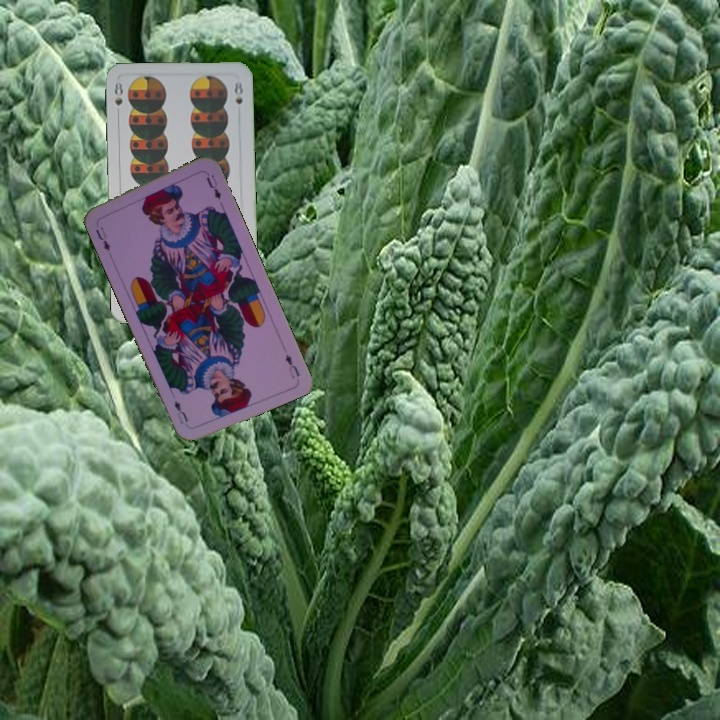EU: (91, 223, 113, 254), (281, 350, 303, 381)
S8: (110, 79, 125, 119)
